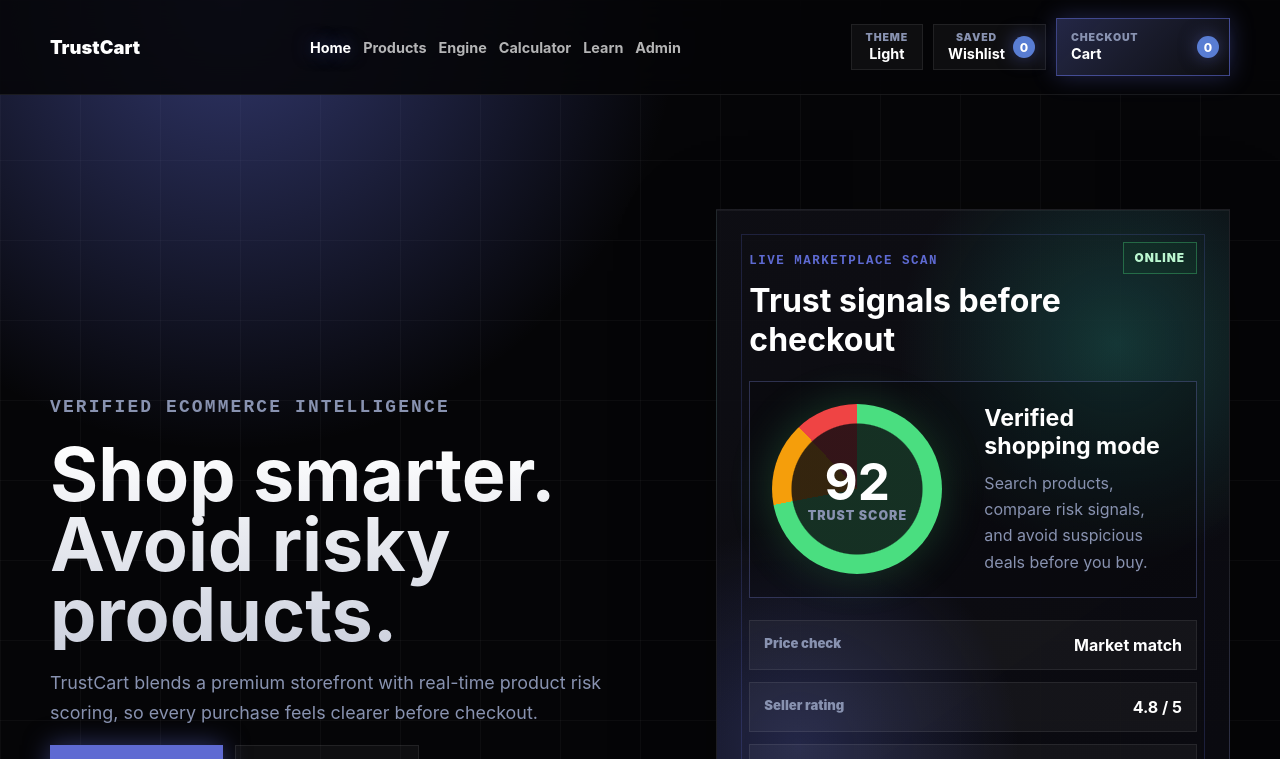
Test: shows a back button on inner pages and returns to the previous page
The image size is (1280, 759).
Expected: the button "back" is not shown
Click the link "Products". click: (395, 47)
box: [363,38,427,56]
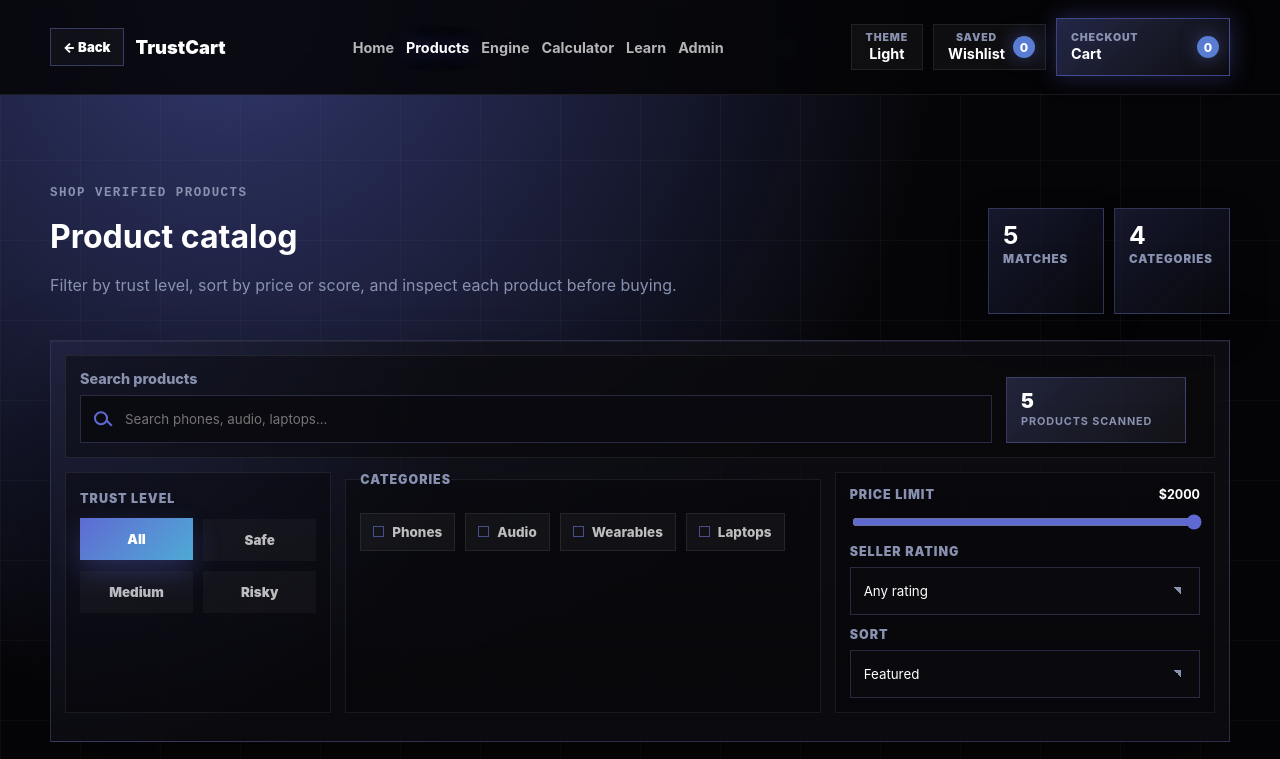
Now the button "← Back" is shown
Click the button "← Back". click: (87, 47)
box: [50,28,124,66]
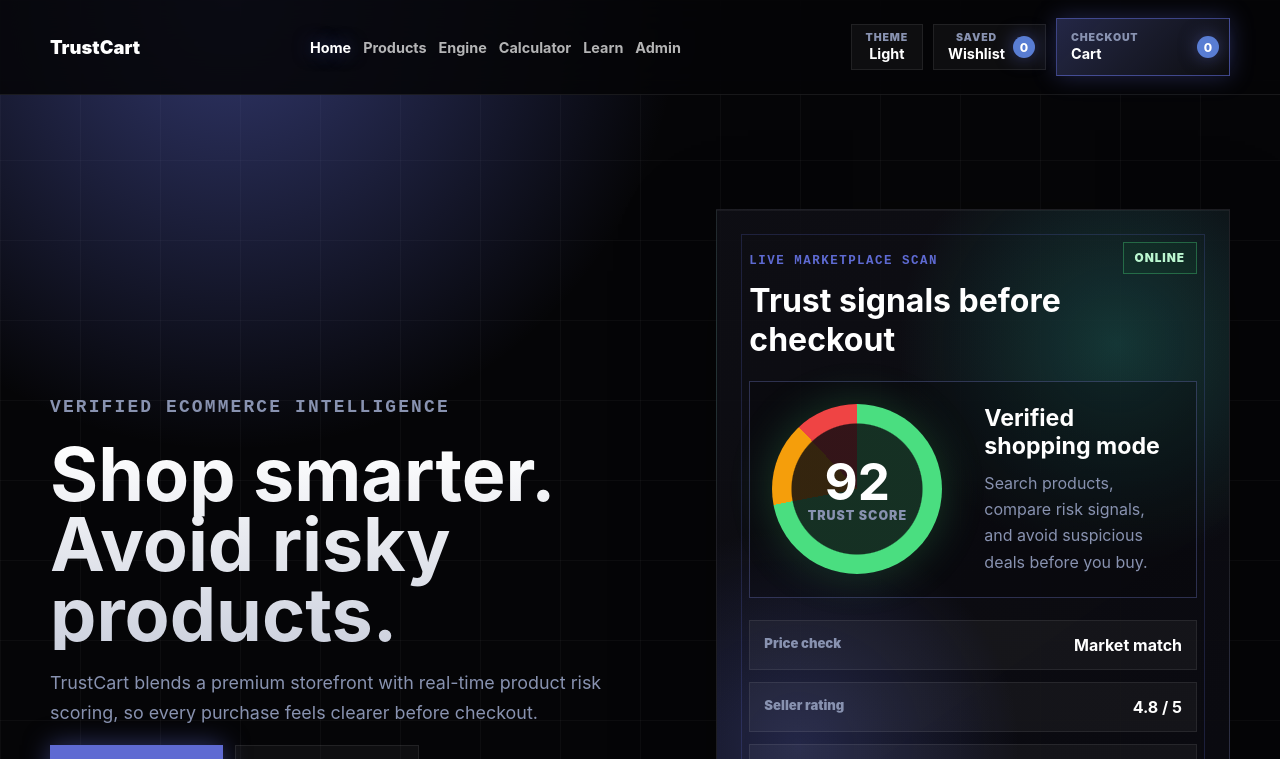
Now the heading "Shop smarter. Avoid risky products." is shown, box [50,440,676,650]
Now the heading "Product catalog" is gone
